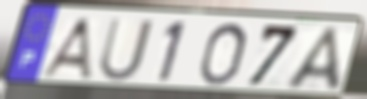1: (155, 19, 190, 85)
7: (243, 23, 303, 89)
A: (282, 25, 345, 94), (37, 15, 94, 81)
O: (196, 21, 250, 88)
U: (96, 15, 156, 84)
